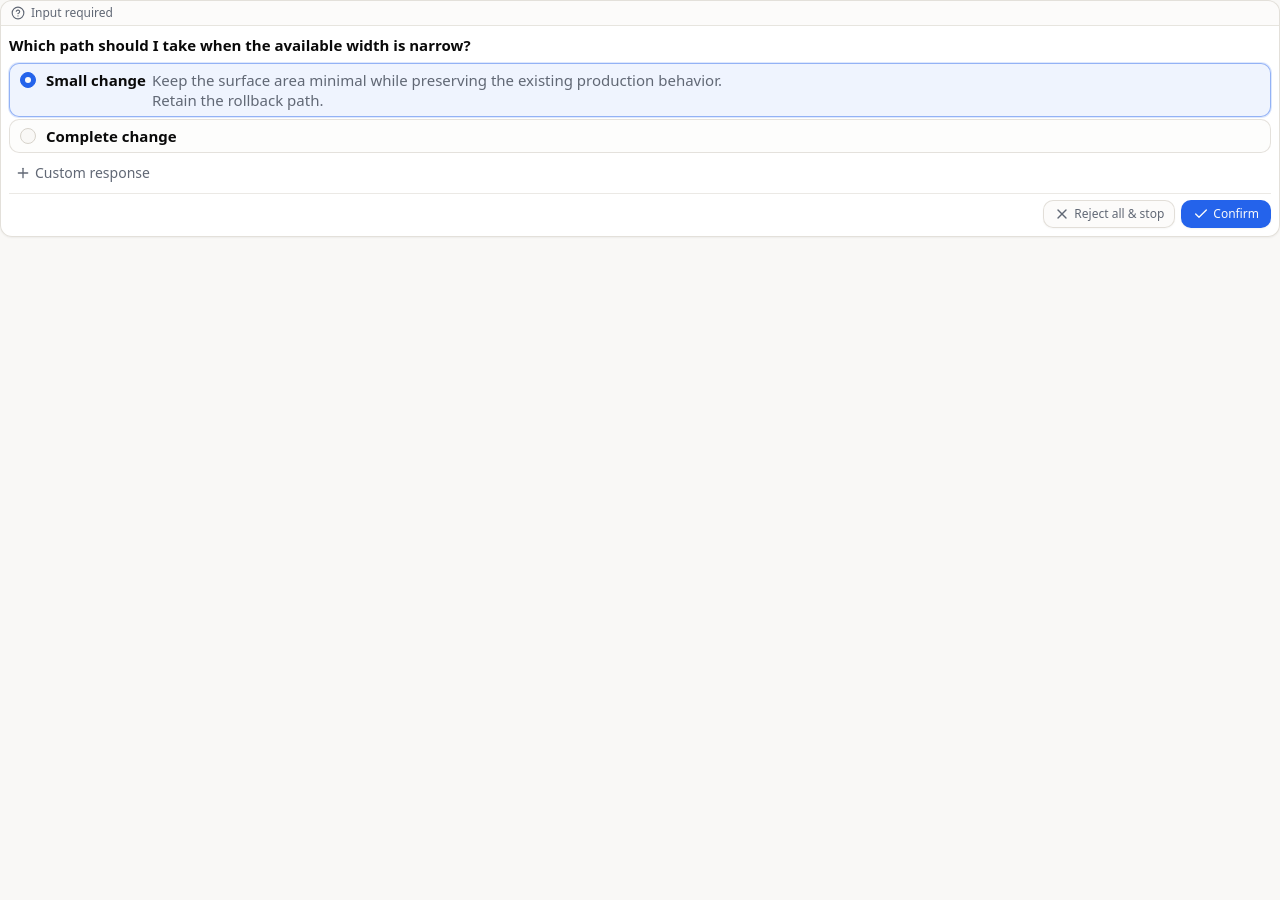
it: AskUserChoiceCard › submits a single selected choice through the unified footer
The width and height of the screenshot is (1280, 900).
Click the radio button with test id "ask-user-choice-option-complete": (28, 136) [20,128,36,144]
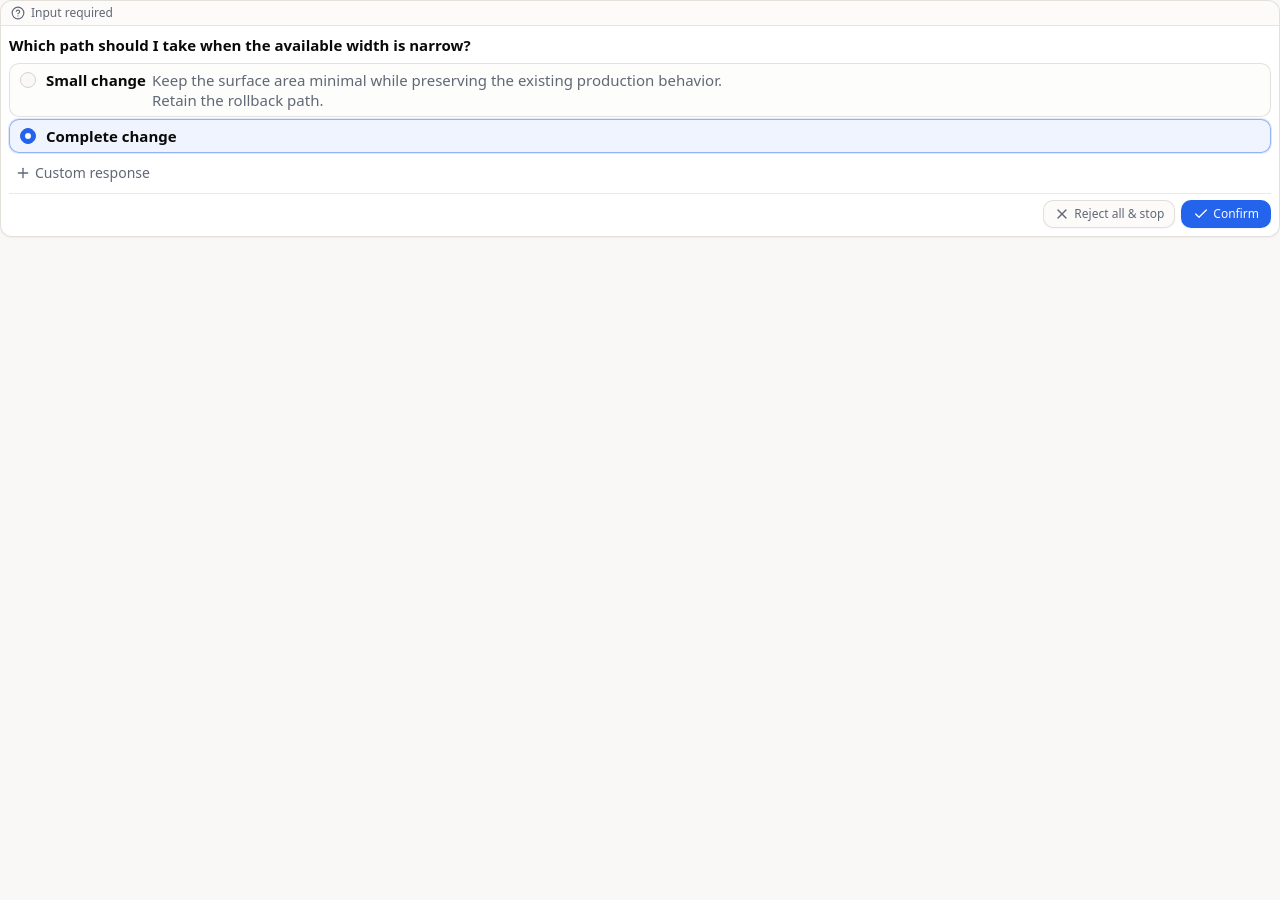
Click the button with test id "ask-user-choice-submit": (1226, 214) [1181,200,1271,228]
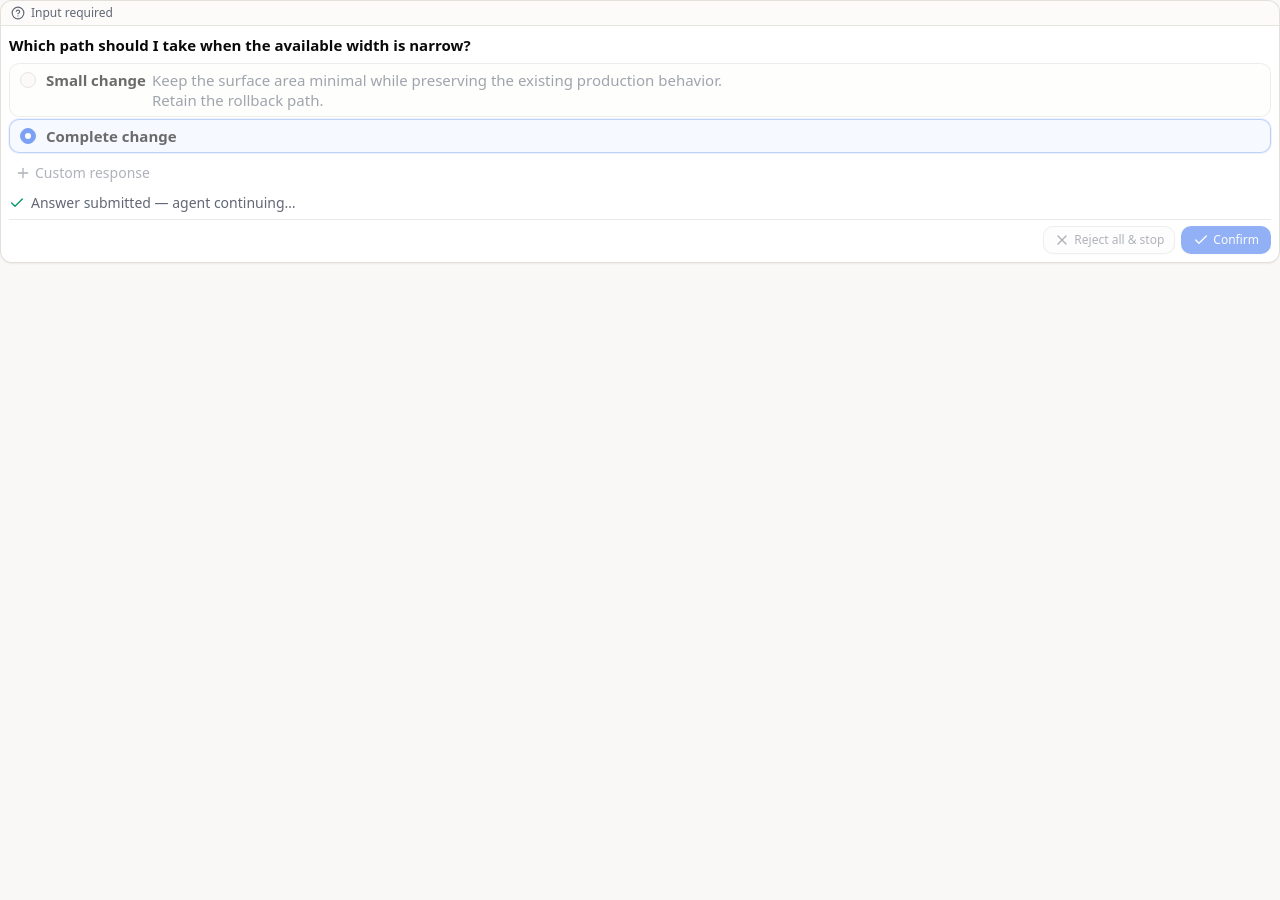
Expected: the text "Answer submitted — agent continuing…" is shown, [9,192,296,212]
